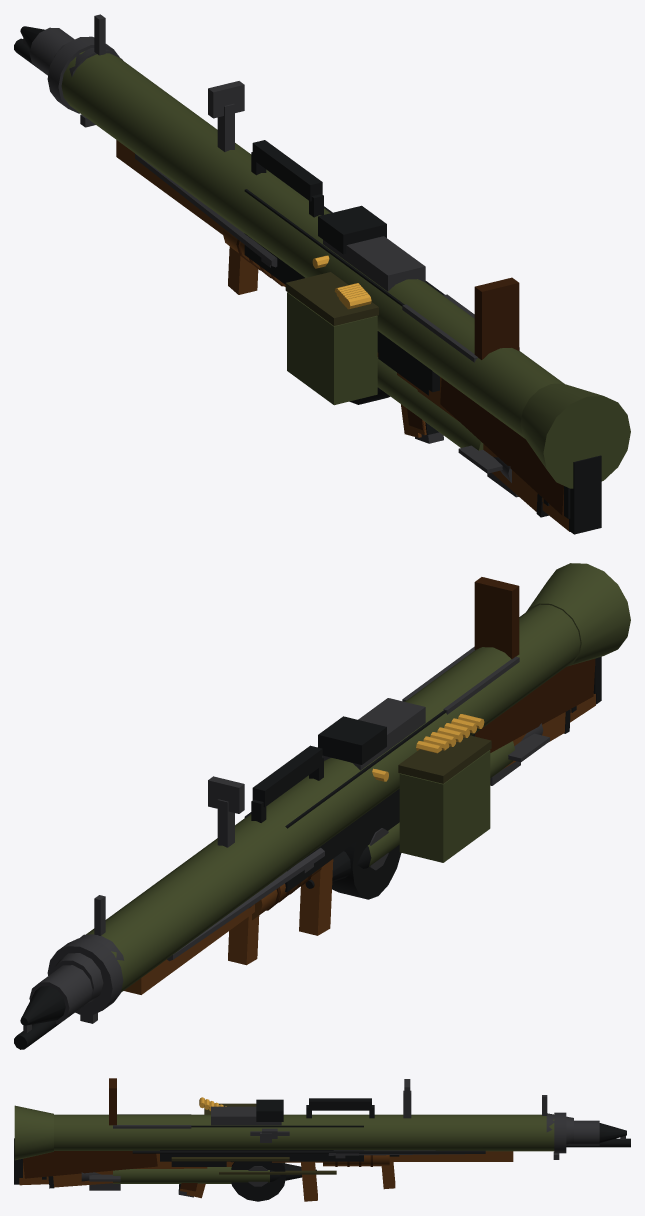
File: Bloedjungle_Wapens.glb
The picture shows the model from 3 angles, top to bottom: view 1: azimuth 30°, elevation 25°; view 2: azimuth 150°, elevation 25°; view 3: azimuth 270°, elevation 25°; orthographic projection. The views are drawn at different scales.
Parts seen in each view (by area): view 1: Bazooka_Olijf, MG42_Parkerized, MG42_Olijf, Bazooka_Staal, MG42_Staal, MG42_HoutDonker, Bazooka_HoutDonker, Raket_Olijf, Garand_Parkerized, MG42_Riem, Garand_Hout, Bazooka_Hout (+3 smaller); view 2: Bazooka_Olijf, MG42_Parkerized, MG42_Olijf, Bazooka_Staal, MG42_Staal, MG42_HoutDonker, Bazooka_HoutDonker, Thompson_Parkerized, MG42_Riem, Thompson_Hout, Garand_Hout, MG42_Messing (+6 smaller); view 3: Bazooka_Olijf, MG42_Parkerized, MG42_HoutDonker, Raket_Olijf, Bazooka_Parkerized, Bazooka_Staal, MG42_Staal, Garand_Hout, Thompson_Parkerized, Thompson_Hout, Bazooka_Riem, Raket_Staal (+8 smaller).
Boxes of the visible parts, x1,y1,x2,y2 form: Bazooka_Olijf: (61,51,630,488); MG42_Parkerized: (244,140,570,518); MG42_Olijf: (287,292,377,405); Bazooka_Staal: (29,14,519,362); MG42_Staal: (54,33,425,291); MG42_HoutDonker: (425,378,563,515); Bazooka_HoutDonker: (474,277,519,359); Raket_Olijf: (377,357,483,450); Garand_Parkerized: (14,38,601,534); MG42_Riem: (285,272,378,325); Garand_Hout: (116,140,569,531); Bazooka_Hout: (228,246,426,435); Bazooka_Olijf: (86,563,630,992); MG42_Parkerized: (244,657,599,892); MG42_Olijf: (399,750,490,862); Bazooka_Staal: (29,646,519,1023); MG42_Staal: (53,698,425,1002); MG42_HoutDonker: (475,658,595,752); Bazooka_HoutDonker: (474,577,519,658); Thompson_Parkerized: (332,706,576,899); MG42_Riem: (398,735,491,783); Thompson_Hout: (299,709,571,935); Garand_Hout: (124,694,595,994); MG42_Messing: (372,714,484,781); Bazooka_Olijf: (14,1105,554,1160); MG42_Parkerized: (18,1098,374,1177); MG42_HoutDonker: (23,1151,157,1178); Raket_Olijf: (113,1167,269,1183); Bazooka_Parkerized: (132,1123,626,1166); Bazooka_Staal: (113,1079,599,1153); MG42_Staal: (211,1106,573,1158); Garand_Hout: (19,1151,513,1185); Thompson_Parkerized: (42,1161,286,1201); Thompson_Hout: (47,1153,322,1201); Bazooka_Riem: (171,1157,289,1161); Raket_Staal: (81,1172,120,1190).
Size of the model in its own units: 0.196 by 0.3262 by 1.57.
